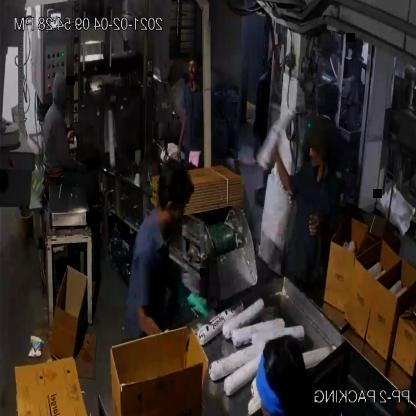glove: (172, 274, 214, 324)
no_glove: (269, 134, 297, 200), (303, 201, 341, 249), (173, 102, 189, 170)
